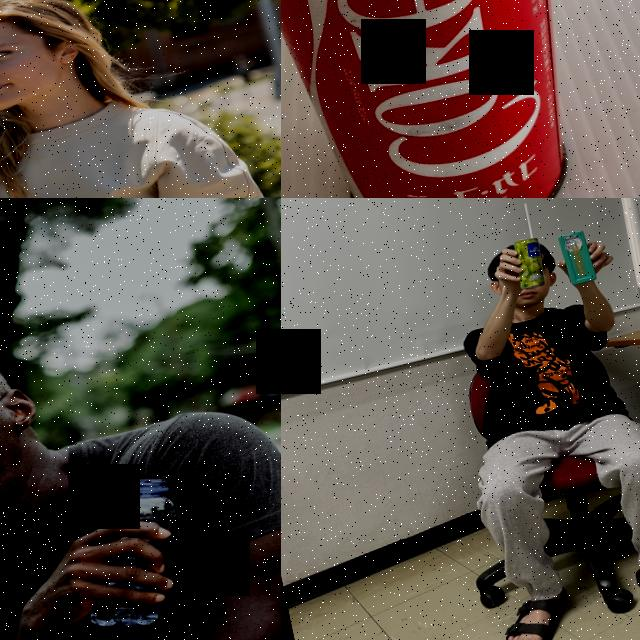bottle: (56, 472, 198, 638)
can: (281, 0, 634, 198), (509, 232, 550, 293)
